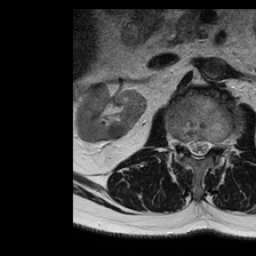CCS_normal: (194, 134, 203, 164)
LFS_stenosis: (212, 137, 220, 154)
LLS_normal: (204, 134, 212, 157)
RFS_stenosis: (179, 134, 186, 155)
RLS_normal: (187, 134, 194, 158)
